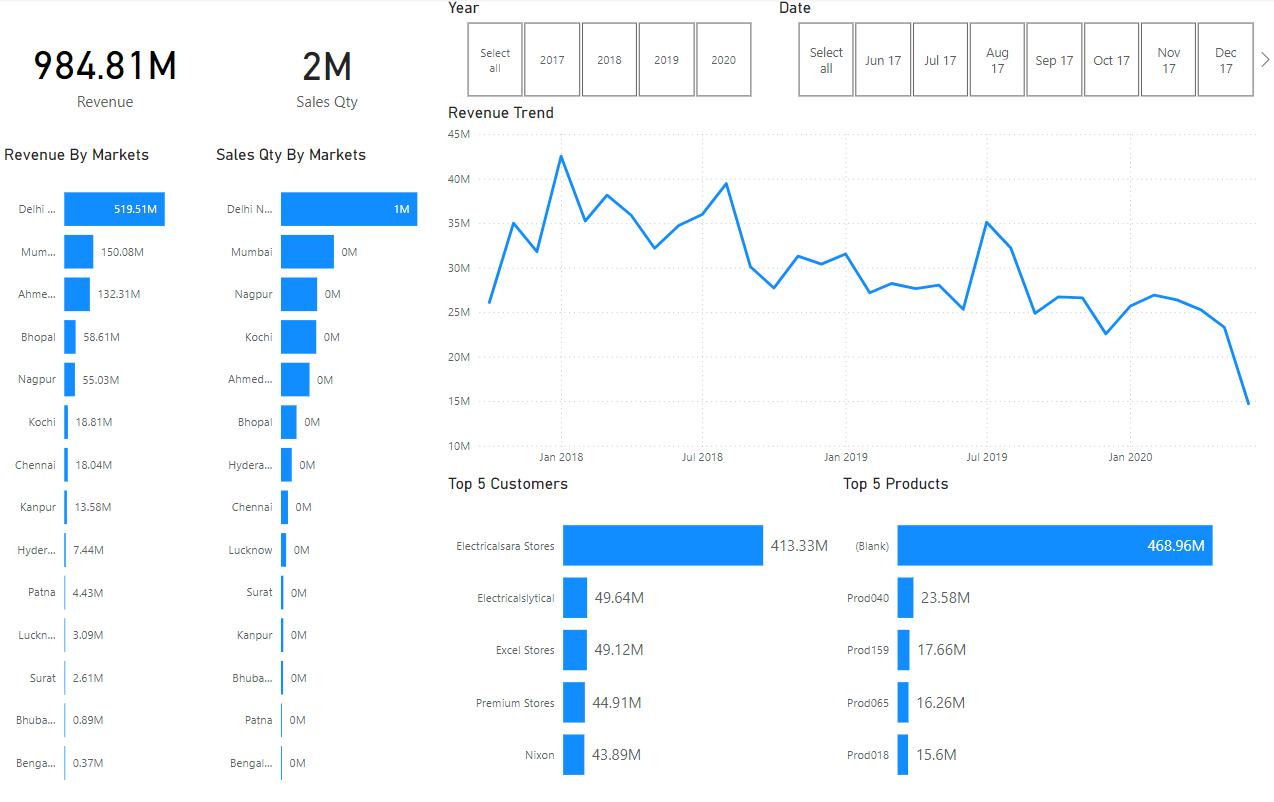

The page's visual inventory and layout, read from the dashboard file:
{"tool":"powerbi","page":{"name":"Page 1","canvas":[1350,850],"ordinal":0},"visuals":[{"type":"card","fields":{"Values":["BaseMeasures.Revenue"]},"box":[0,0,224.1,154.4],"z":0},{"type":"card","fields":{"Values":["BaseMeasures.Sales Qty"]},"box":[224.1,0,245.3,155.4],"z":1000},{"type":"barChart","title":"Revenue By Markets","fields":{"Y":["BaseMeasures.Revenue"],"Category":["sales markets.markets_name"]},"box":[0,155.4,224.1,694.6],"z":2000},{"type":"barChart","title":"Sales Qty By Markets","fields":{"Y":["BaseMeasures.Sales Qty"],"Category":["sales markets.markets_name"]},"box":[224.1,155.4,245.3,694.6],"z":3000},{"type":"slicer","title":"Year","fields":{"Values":["sales date.year"]},"box":[469.4,0,349.9,111],"z":4000},{"type":"slicer","title":"Date","fields":{"Values":["sales date.cy_date"]},"box":[819.3,0,530.7,111],"z":5000},{"type":"barChart","title":"Top 5 Customers ","fields":{"Y":["BaseMeasures.Revenue"],"Category":["sales customers.custmer_name"]},"box":[469.4,503.2,417.6,346.8],"z":6000},{"type":"barChart","title":"Top 5 Products","fields":{"Y":["BaseMeasures.Revenue"],"Category":["sales products.product_code"]},"box":[887,503.2,463.1,346.8],"z":7000},{"type":"lineChart","title":"Revenue Trend","fields":{"Y":["BaseMeasures.Revenue"],"Category":["sales date.cy_date"]},"box":[469.4,111,880.7,392.2],"z":8000}]}

Visuals, with their boxes in screenshot pixels (x1, y1, x2, y2), scaled from the page's 1350x850 canvas onto the 1274x802 screenshot:
card - BaseMeasures.Revenue: 0/0/211/146
card - BaseMeasures.Sales Qty: 211/0/443/147
"Revenue By Markets" barChart: 0/147/211/801
"Sales Qty By Markets" barChart: 211/147/443/801
"Year" slicer: 443/0/773/105
"Date" slicer: 773/0/1273/105
"Top 5 Customers " barChart: 443/475/837/801
"Top 5 Products" barChart: 837/475/1273/801
"Revenue Trend" lineChart: 443/105/1273/475
